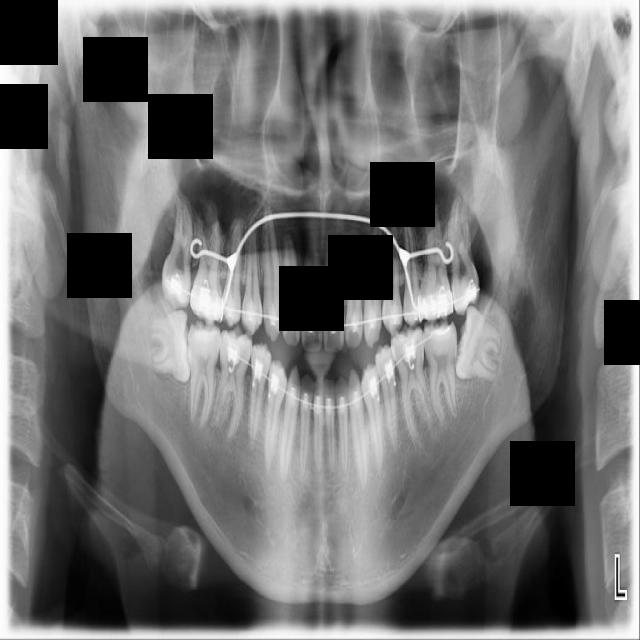73: (588, 574, 596, 588)
BioHorizons Implant: (445, 194, 482, 317)
Biomet 3i Implant: (450, 303, 508, 385)
Blue Sky Bio Implant: (422, 318, 461, 427)
Caries: (160, 193, 194, 311)
Implant: (188, 320, 222, 426)
Keystone Dental Implant: (148, 306, 194, 384)
